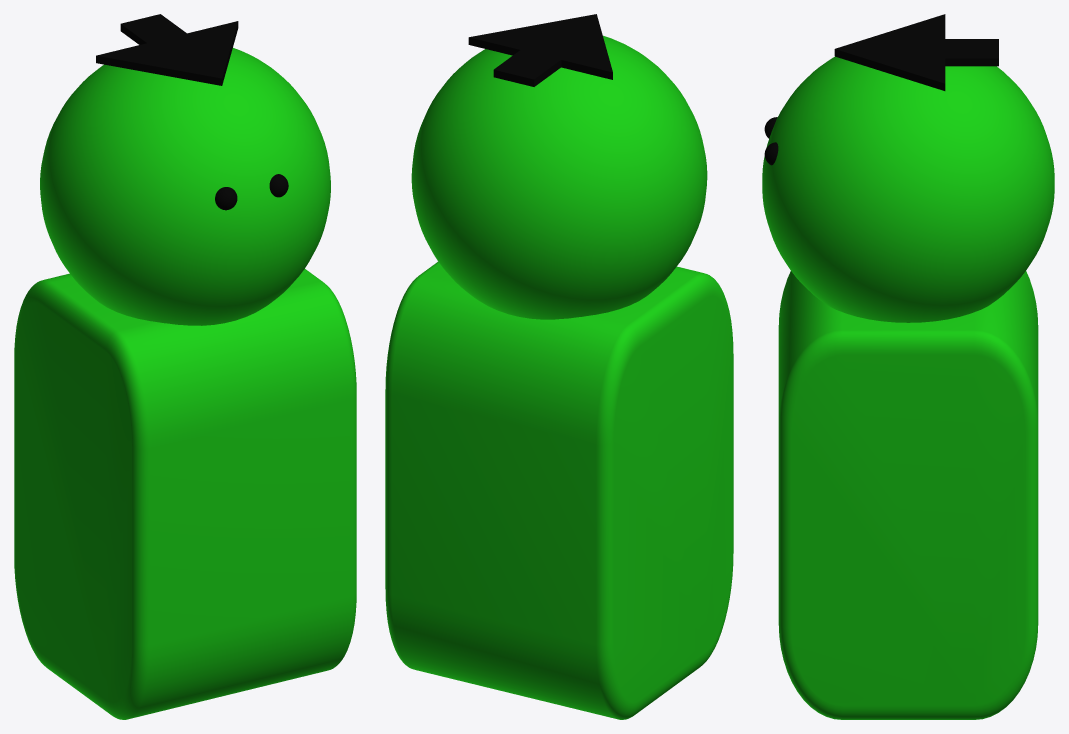
File: 2green.obj
The picture shows the model from 3 angles, left to right: view 1: azimuth 30°, elevation 25°; view 2: azimuth 150°, elevation 25°; view 3: azimuth 270°, elevation 25°; orthographic projection.
Visible parts, largest first — view 1: Curve.002_Curve.005, Curve.002_Curve.002; view 2: Curve.002_Curve.005, Curve.002_Curve.002; view 3: Curve.002_Curve.005, Curve.002_Curve.002.
Boxes of the visible parts, bbox=[...] form: Curve.002_Curve.005: bbox=[14, 48, 356, 719]; Curve.002_Curve.002: bbox=[96, 14, 288, 210]; Curve.002_Curve.005: bbox=[385, 35, 733, 719]; Curve.002_Curve.002: bbox=[468, 14, 612, 86]; Curve.002_Curve.005: bbox=[762, 56, 1054, 719]; Curve.002_Curve.002: bbox=[764, 14, 998, 165].
Bounding box in the file's own units: 0.2062 × 0.4819 × 0.2057.
